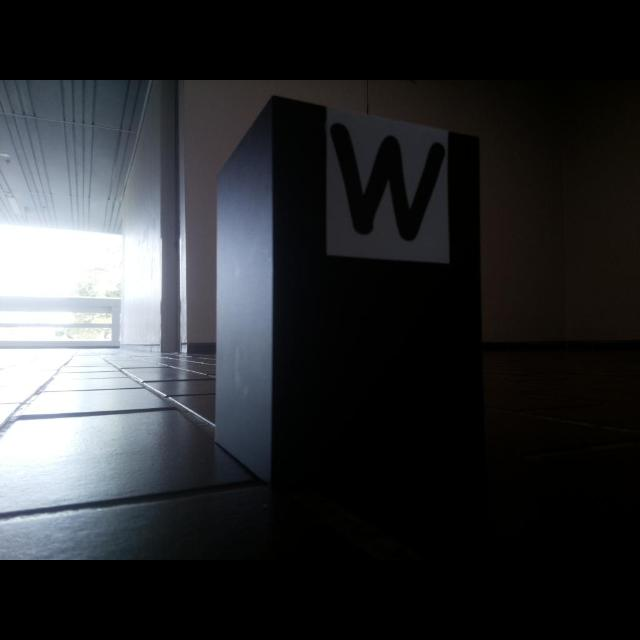W: (329, 120, 448, 244)
